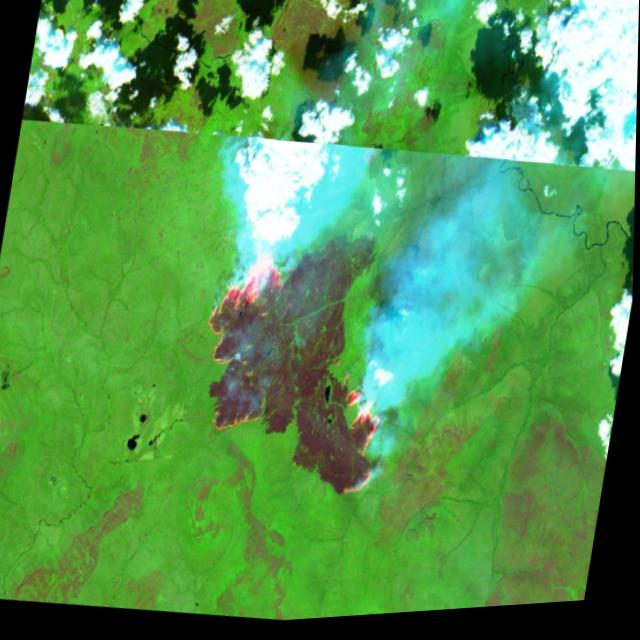fire: (180, 230, 416, 517)
